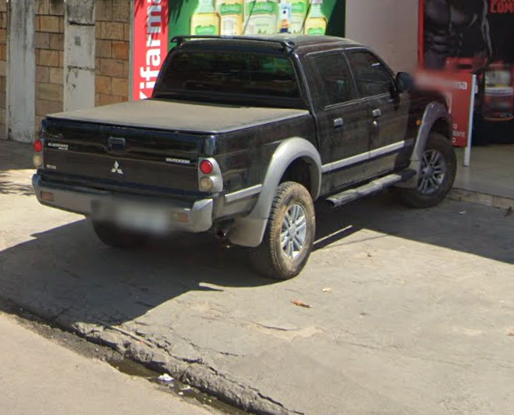car: (29, 24, 459, 281)
